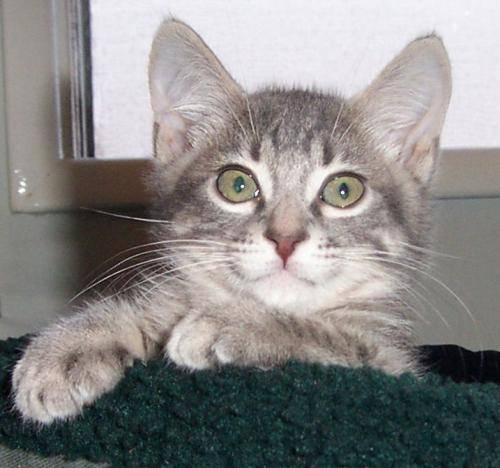cat: (13, 18, 451, 423)
